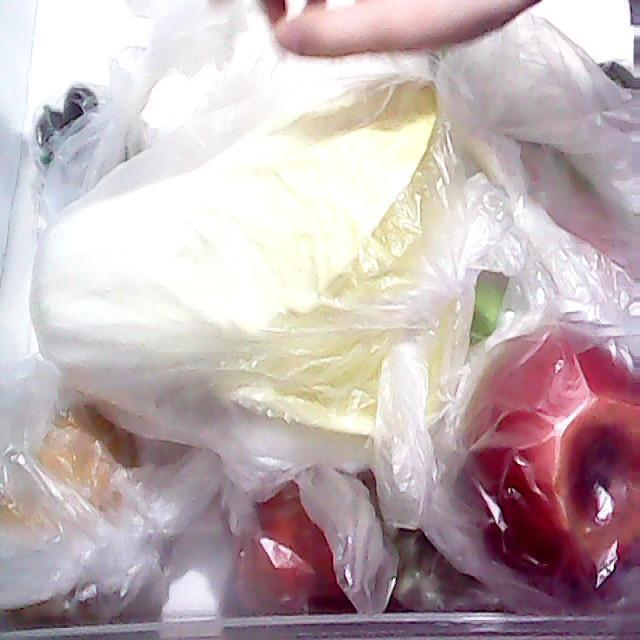Potato: (0, 400, 142, 628)
